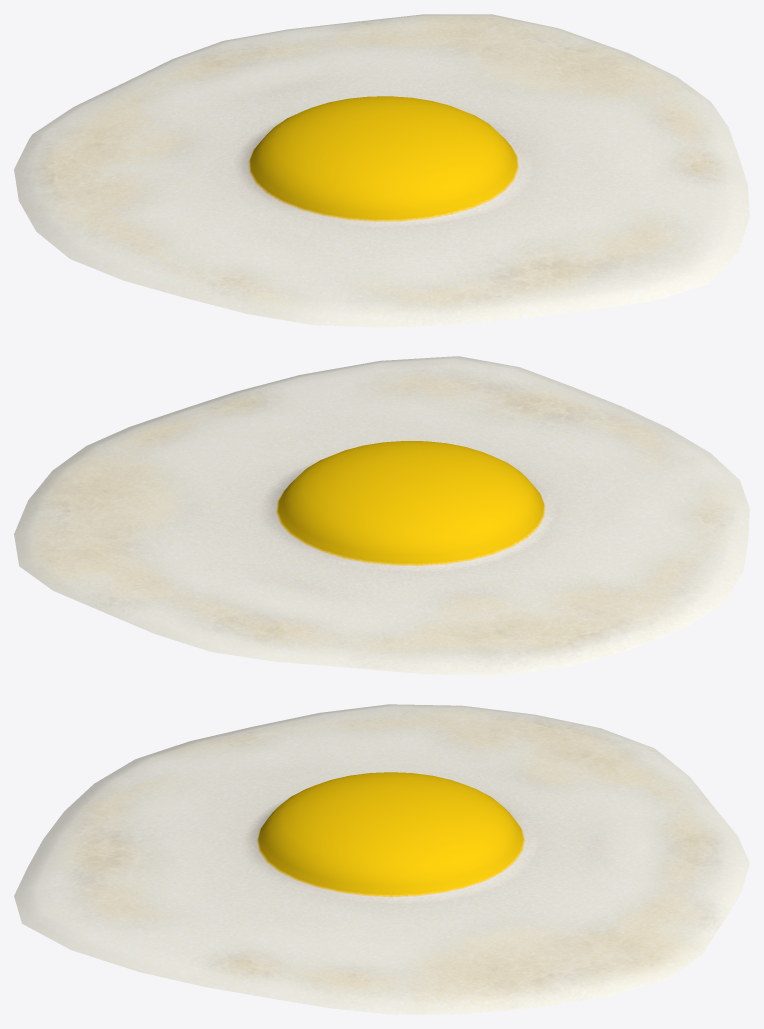
The model's file is Egg_Cracked_1.obj.
3 views of the same model, one above another, from view 1: azimuth 30°, elevation 25°; view 2: azimuth 150°, elevation 25°; view 3: azimuth 270°, elevation 25° (orthographic).
Parts seen in each view (by area): view 1: fried_egg_1; view 2: fried_egg_1; view 3: fried_egg_1.
Part boxes in pixels (x1,y1,x2,y2): fried_egg_1: (14, 14, 749, 327); fried_egg_1: (14, 356, 749, 675); fried_egg_1: (14, 704, 749, 1014).
Size of the model in its own units: 0.1244 by 0.0107 by 0.1247.
